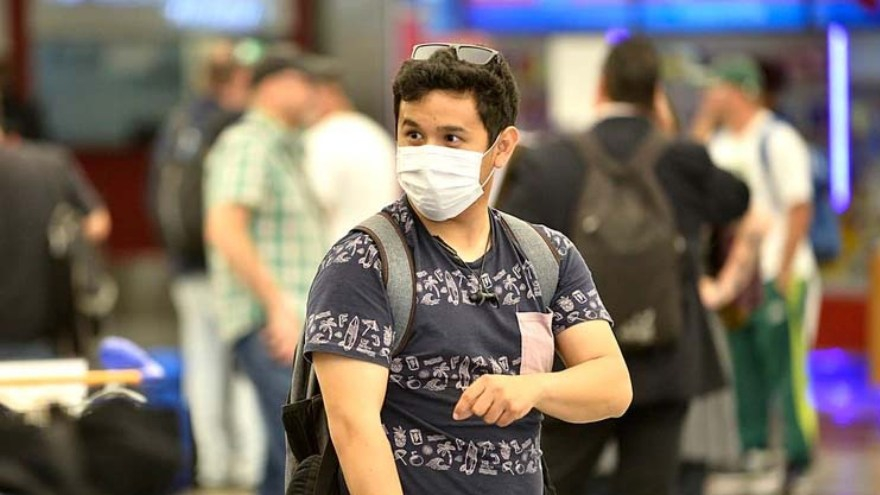barbijo: (393, 133, 503, 216)
